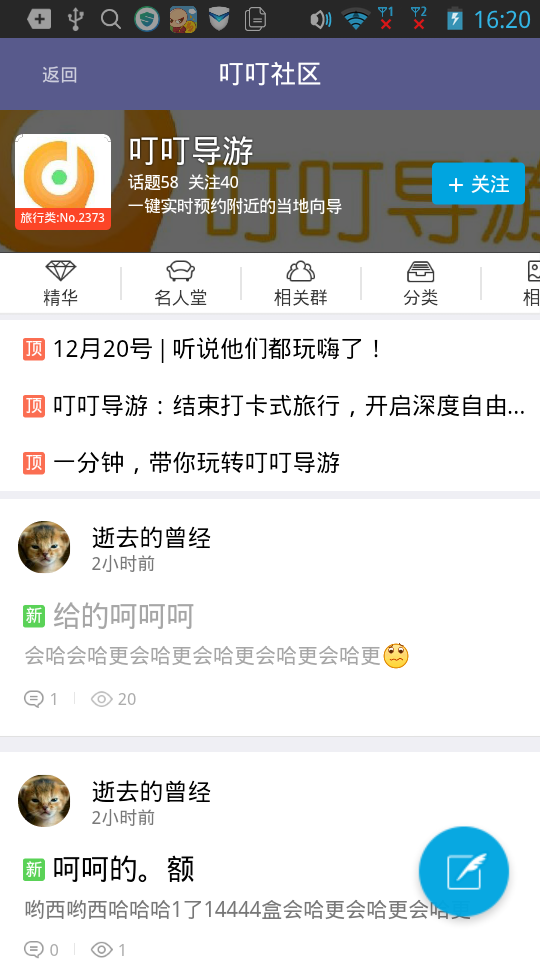button: (426, 156, 530, 210)
imgbutton: (416, 817, 515, 924)
textview: (3, 495, 540, 738), (2, 318, 539, 489)
